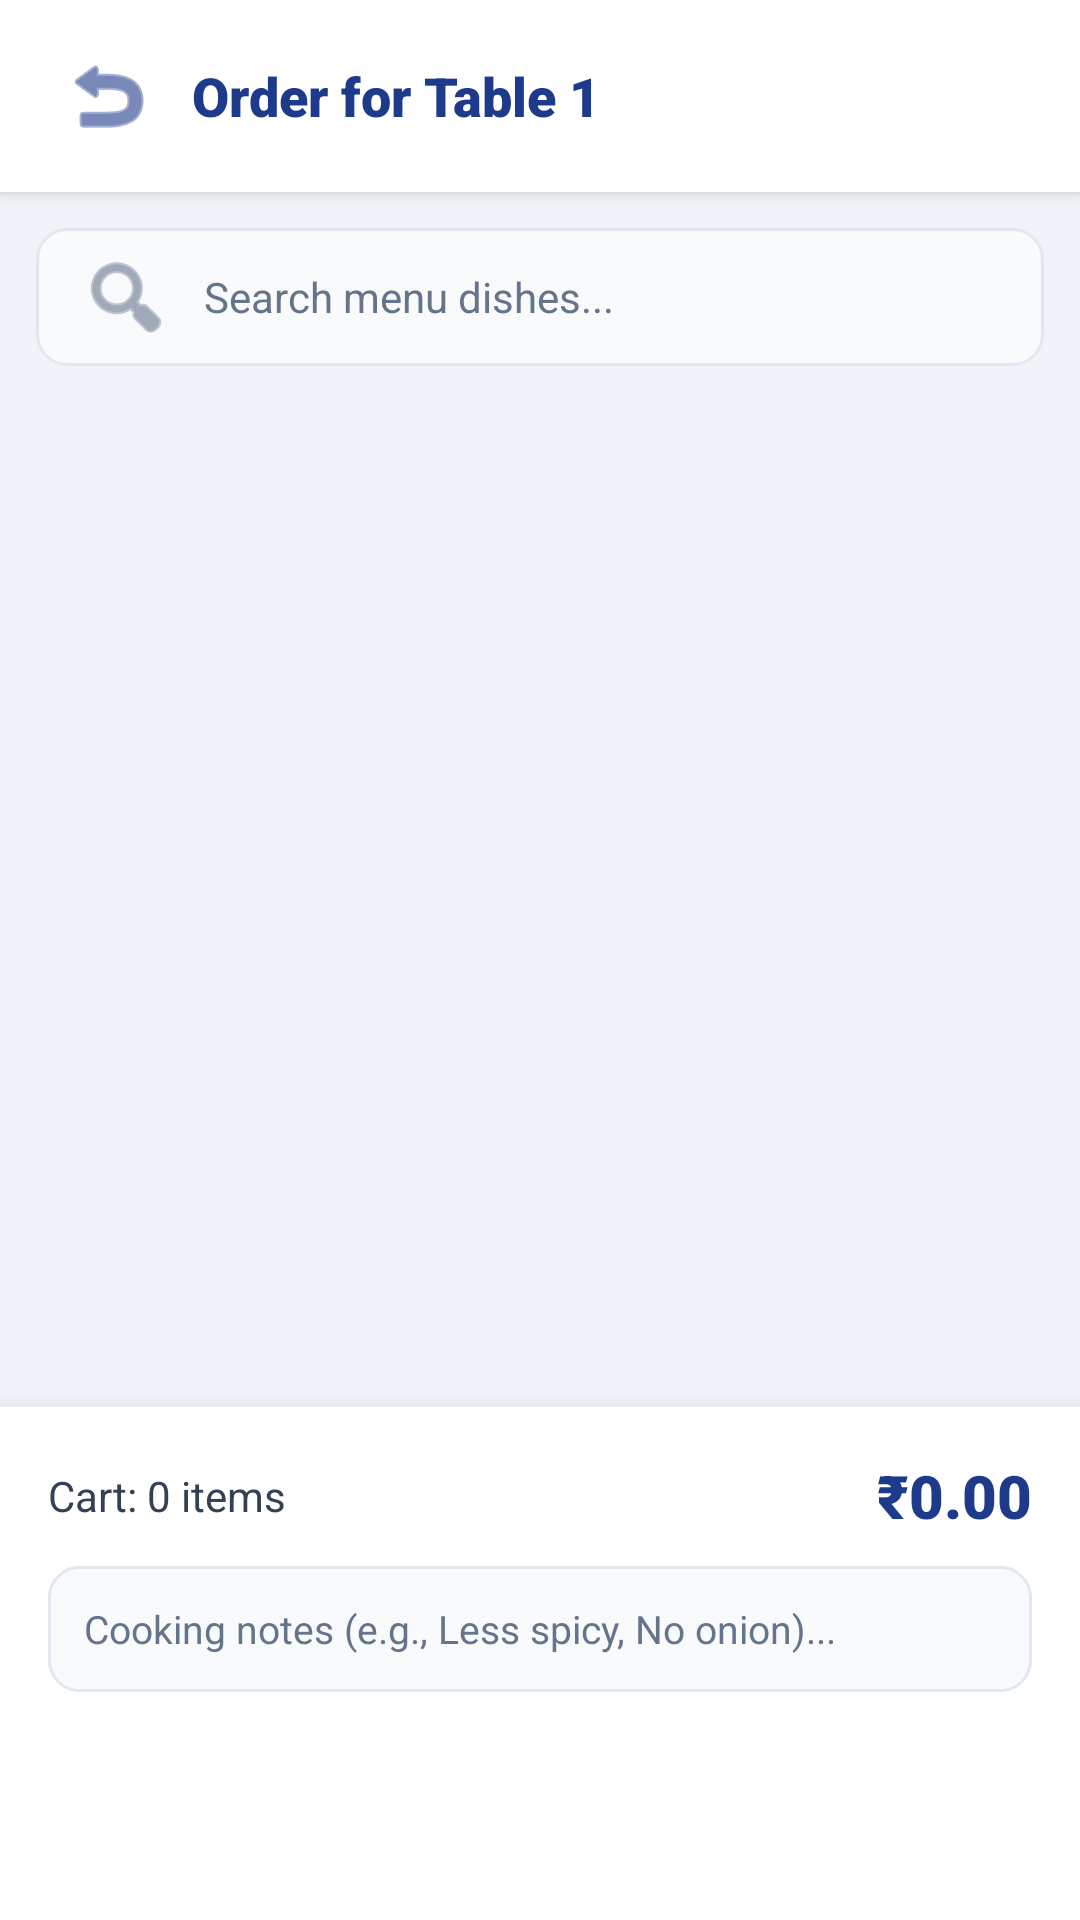

Icons on this 1080 x 1920 Android screen, each with the point to tap as [x,y]:
revert: [109,96]
